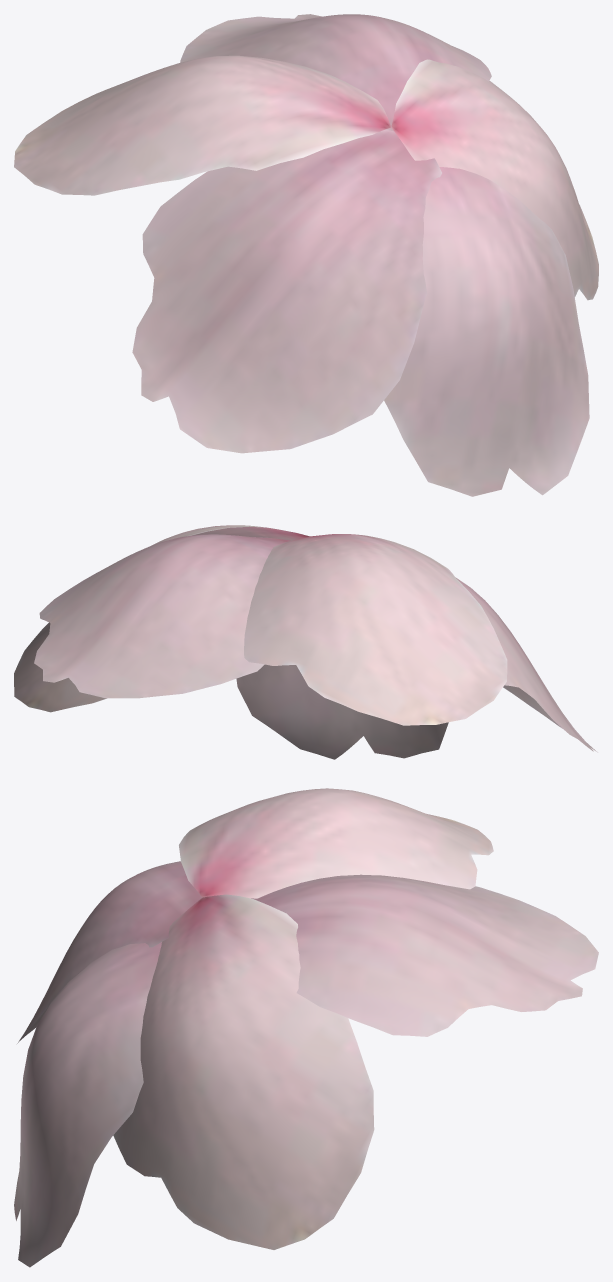
The model's file is petal2.glb.
3 renders of one model, top to bottom at view 1: azimuth 30°, elevation 25°; view 2: azimuth 150°, elevation 25°; view 3: azimuth 270°, elevation 25°, orthographic. The views are drawn at different scales.
Visible parts, largest first — view 1: 03.051_petal01_0, 03.051_petal03_0, 03.051_petal02_0; view 2: 03.051_petal03_0, 03.051_petal01_0, 03.051_petal02_0; view 3: 03.051_petal03_0, 03.051_petal01_0, 03.051_petal02_0.
Part boxes in pixels (x1,y1,x2,y2): 03.051_petal01_0: (132, 14, 491, 453); 03.051_petal03_0: (14, 55, 598, 300); 03.051_petal02_0: (384, 167, 589, 496); 03.051_petal03_0: (14, 525, 507, 725); 03.051_petal01_0: (34, 534, 597, 752); 03.051_petal02_0: (236, 664, 448, 759); 03.051_petal03_0: (113, 788, 493, 1249); 03.051_petal01_0: (17, 861, 598, 1043); 03.051_petal02_0: (14, 942, 161, 1267).
Bounding box in the file's own units: 1.83 × 1.2 × 1.69.
3 materials, 3 textured.
